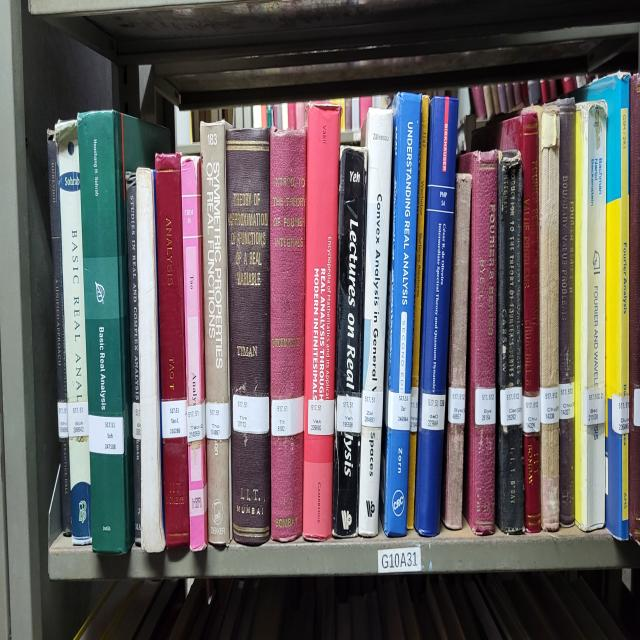Book: (78, 111, 170, 555), (472, 108, 541, 533), (575, 73, 630, 541), (415, 97, 458, 536), (225, 127, 270, 544), (381, 92, 421, 536), (302, 103, 340, 541), (55, 122, 92, 544), (270, 130, 306, 541), (460, 149, 498, 536), (575, 100, 608, 530), (359, 108, 392, 536), (332, 149, 368, 538), (155, 154, 190, 547), (200, 122, 232, 544), (495, 149, 525, 533), (136, 168, 165, 552), (441, 173, 471, 530), (181, 157, 208, 552), (536, 106, 560, 530), (406, 95, 429, 530), (48, 130, 71, 536), (558, 97, 576, 528), (126, 173, 141, 544)
Label: (89, 414, 124, 455), (232, 395, 269, 433), (271, 395, 304, 436), (161, 400, 188, 438), (386, 390, 411, 430), (206, 400, 230, 441), (308, 400, 335, 436), (336, 395, 361, 433), (421, 392, 445, 430), (186, 400, 206, 444), (500, 387, 522, 425), (475, 387, 496, 425), (584, 387, 605, 425), (361, 390, 382, 427), (68, 400, 89, 436), (540, 387, 559, 425), (522, 395, 540, 433), (611, 395, 629, 433), (448, 387, 465, 425), (559, 381, 575, 419), (58, 400, 69, 438), (410, 387, 419, 433), (132, 403, 141, 441)
